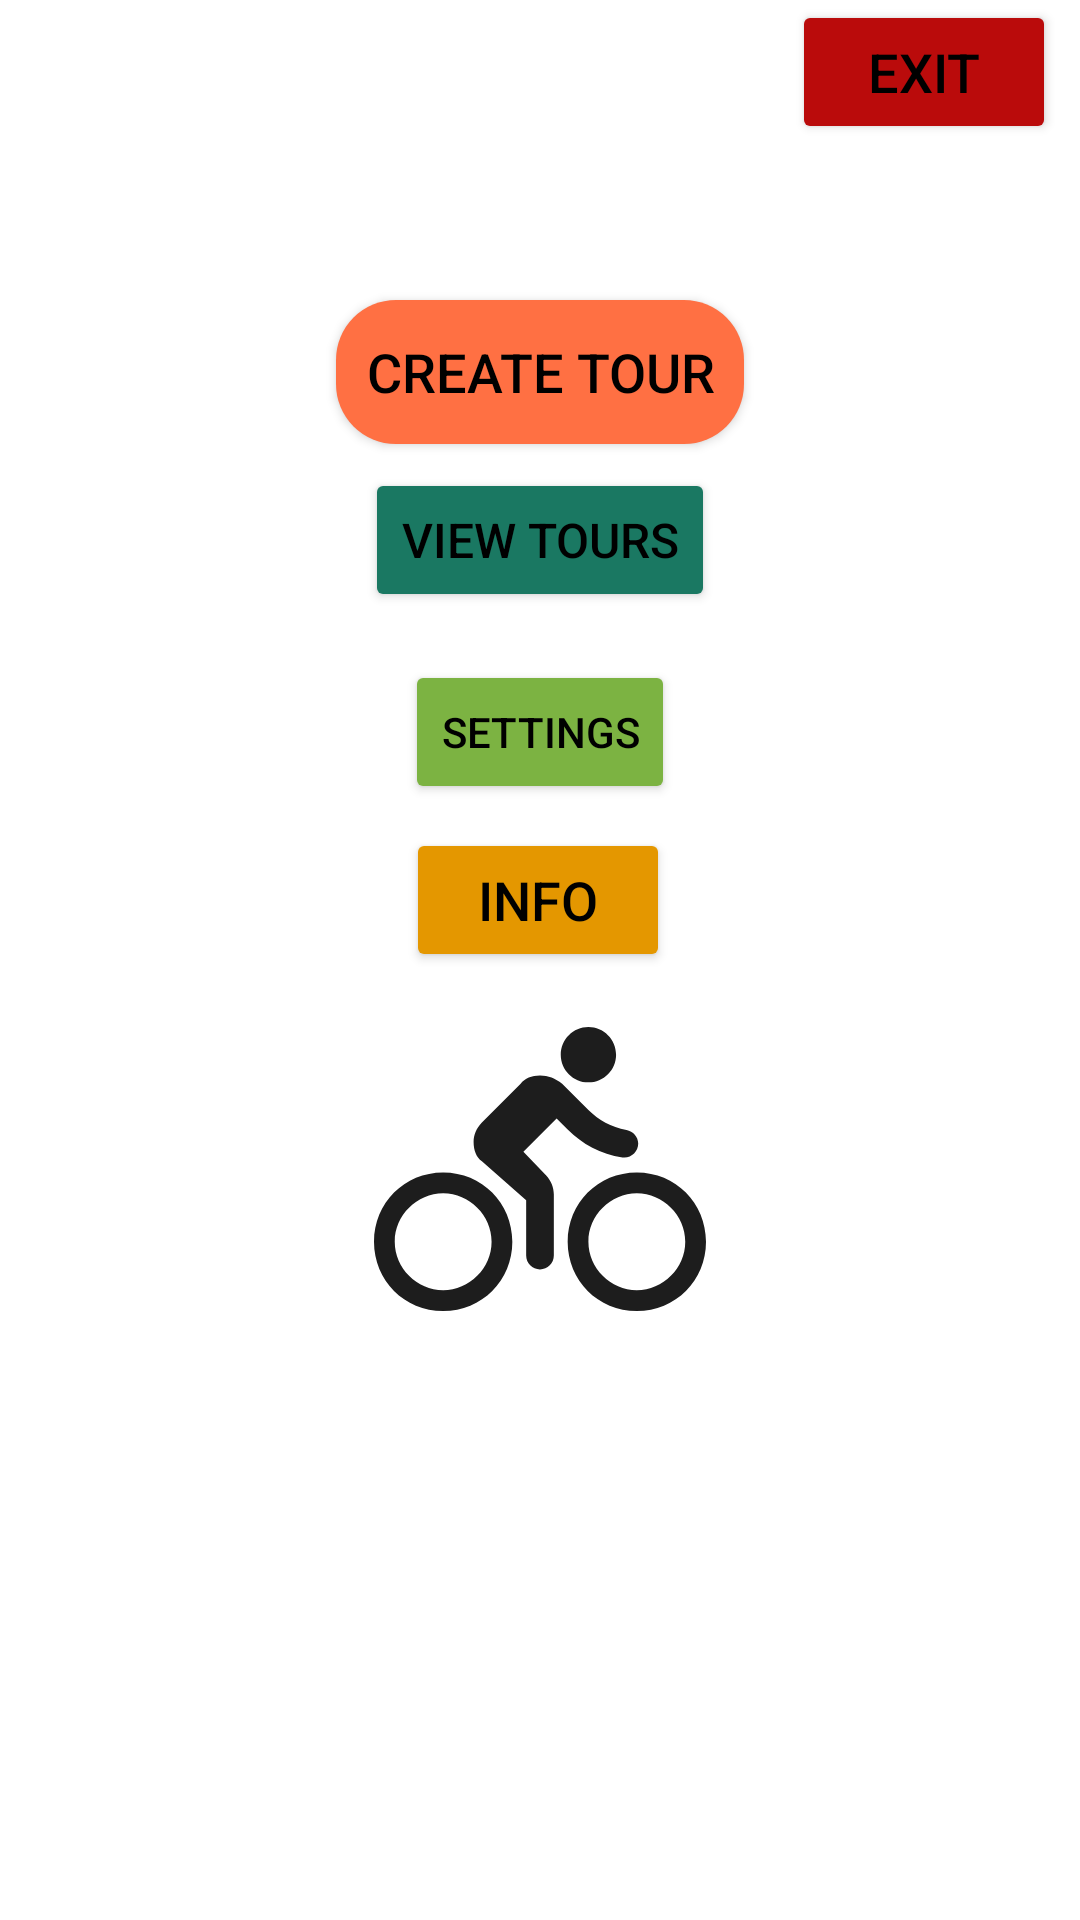

Named icons in this screenshot (1080x1920) and their centers, (x=x, y=y):
Bike: (x=540, y=1169)
